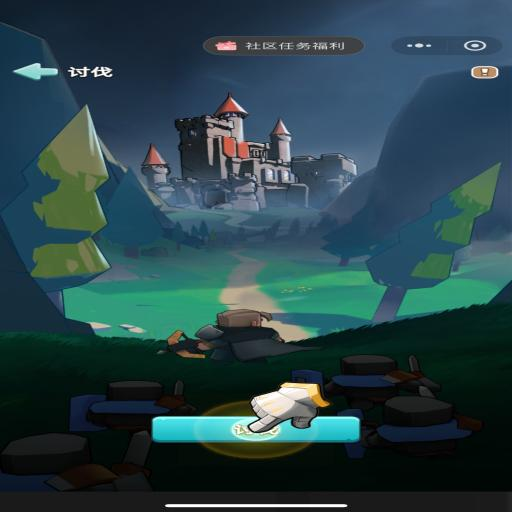newcomer_hand: (244, 380, 331, 433)
